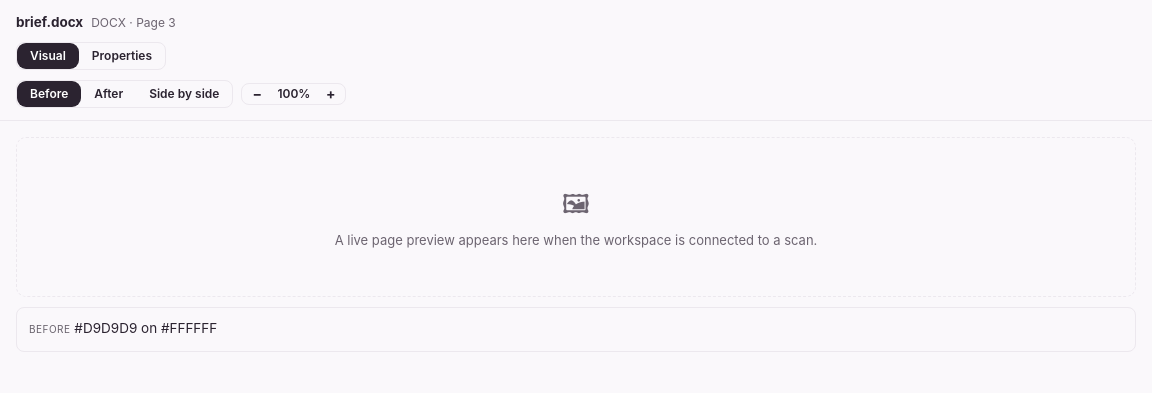
Test: RemediationPreview — contextual document pane › Side by side shows the found and proposed states together
This screenshot has width=1152, height=393.
Click the tab "Side by side". click: (184, 94)
box: [136,81,232,107]
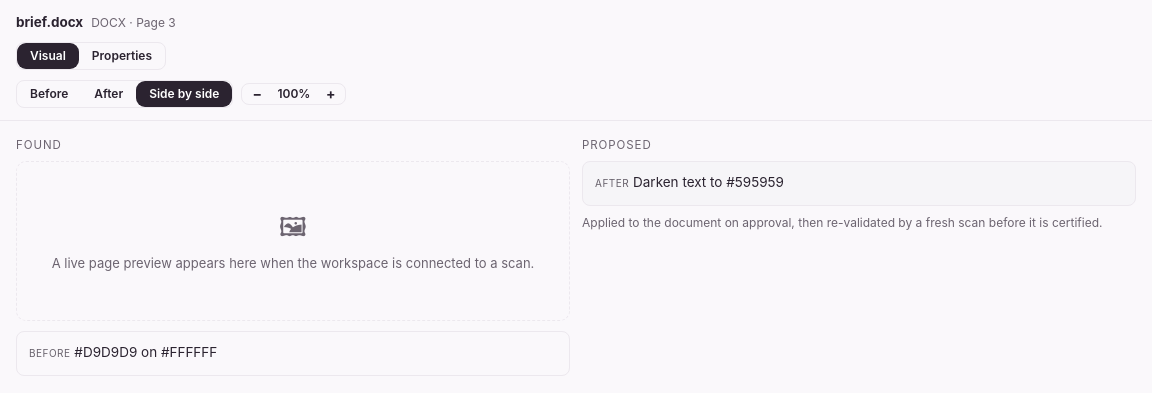
Now the text "Found" is shown, box [16,138,62,152]
Now the text "Proposed" is shown, box [582,138,652,152]
Now the text "Darken text to #595959" is shown, box [633,174,784,190]
